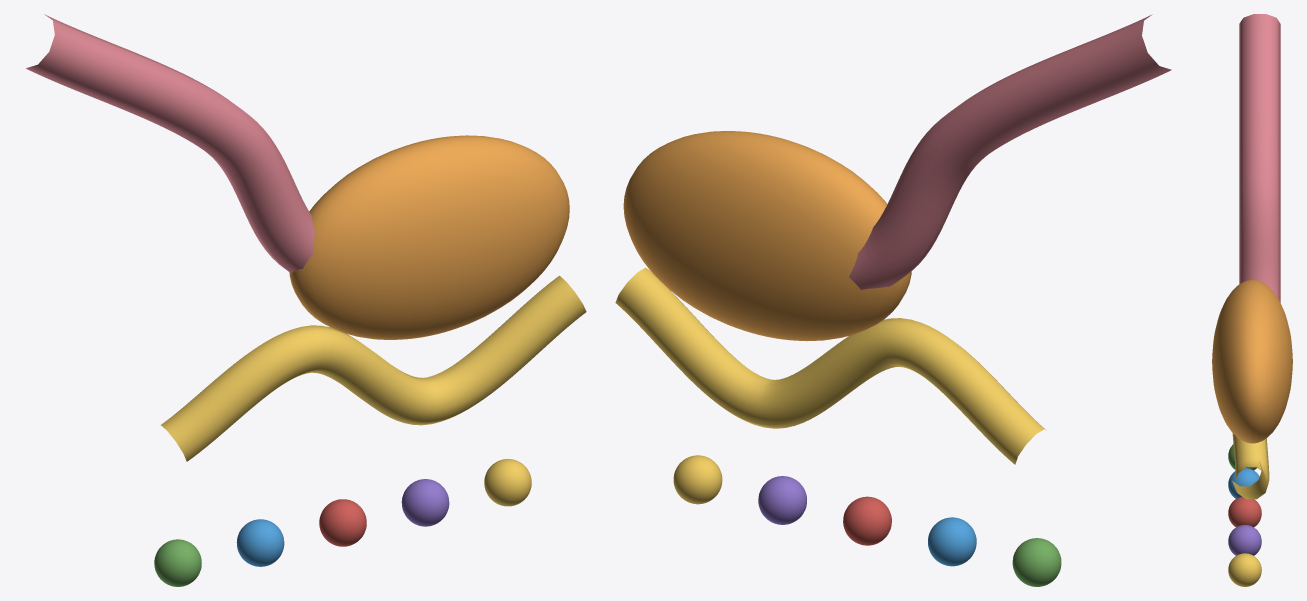
The model's file is bio-p1-digestion.glb.
3 views of the same model, side by side, from view 1: azimuth 30°, elevation 25°; view 2: azimuth 150°, elevation 25°; view 3: azimuth 270°, elevation 25° (orthographic). The views are drawn at different scales.
Visible parts, largest first — view 1: stomach-churning-pouch, small-intestine-coils-absorb-nutrients, mouth-to-stomach-food-path, nutrient-absorbed-3, nutrient-absorbed-1, nutrient-absorbed-4, nutrient-absorbed-2, nutrient-absorbed-0; view 2: stomach-churning-pouch, small-intestine-coils-absorb-nutrients, mouth-to-stomach-food-path, nutrient-absorbed-4, nutrient-absorbed-0, nutrient-absorbed-1, nutrient-absorbed-2, nutrient-absorbed-3; view 3: mouth-to-stomach-food-path, stomach-churning-pouch, small-intestine-coils-absorb-nutrients, nutrient-absorbed-4, nutrient-absorbed-3, nutrient-absorbed-2, nutrient-absorbed-1, nutrient-absorbed-0.
Part boxes in pixels (<box>): stomach-churning-pouch: <box>289,135,569,339</box>; small-intestine-coils-absorb-nutrients: <box>160,275,586,461</box>; mouth-to-stomach-food-path: <box>26,14,314,273</box>; nutrient-absorbed-3: <box>401,479,449,526</box>; nutrient-absorbed-1: <box>236,519,284,566</box>; nutrient-absorbed-4: <box>484,459,531,506</box>; nutrient-absorbed-2: <box>319,499,366,546</box>; nutrient-absorbed-0: <box>154,539,201,586</box>; stomach-churning-pouch: <box>623,131,911,341</box>; small-intestine-coils-absorb-nutrients: <box>615,267,1046,464</box>; mouth-to-stomach-food-path: <box>849,14,1171,289</box>; nutrient-absorbed-4: <box>673,455,722,504</box>; nutrient-absorbed-0: <box>1012,538,1061,586</box>; nutrient-absorbed-1: <box>928,517,976,566</box>; nutrient-absorbed-2: <box>843,496,891,545</box>; nutrient-absorbed-3: <box>758,476,806,524</box>; mouth-to-stomach-food-path: <box>1239,14,1280,302</box>; stomach-churning-pouch: <box>1212,280,1292,443</box>; small-intestine-coils-absorb-nutrients: <box>1232,433,1269,499</box>; nutrient-absorbed-4: <box>1228,553,1261,586</box>; nutrient-absorbed-3: <box>1228,525,1261,555</box>; nutrient-absorbed-2: <box>1228,496,1261,527</box>; nutrient-absorbed-1: <box>1228,468,1259,498</box>; nutrient-absorbed-0: <box>1228,444,1256,470</box>.
Size of what is drawn, in the model's own units: 1.2 by 1.23 by 0.216.
